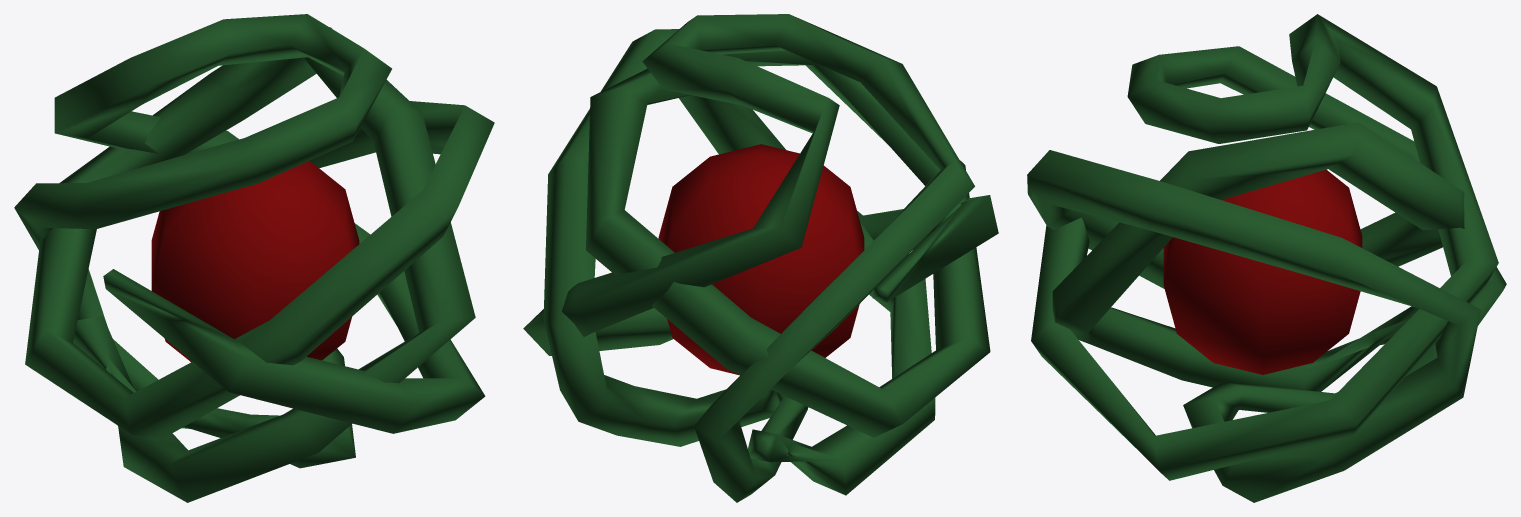
Rendered from RootBall.fbx.
The picture shows the model from 3 angles, left to right: view 1: azimuth 30°, elevation 25°; view 2: azimuth 150°, elevation 25°; view 3: azimuth 270°, elevation 25°; orthographic projection. The views are drawn at different scales.
Parts seen in each view (by area): view 1: RootBall; view 2: RootBall; view 3: RootBall.
Part boxes in pixels (box(x1,y1,x2,y2)): RootBall: box(14, 14, 494, 502); RootBall: box(523, 14, 998, 502); RootBall: box(1027, 14, 1506, 502).
Bounding box in the file's own units: 1.54 × 1.64 × 1.7.
